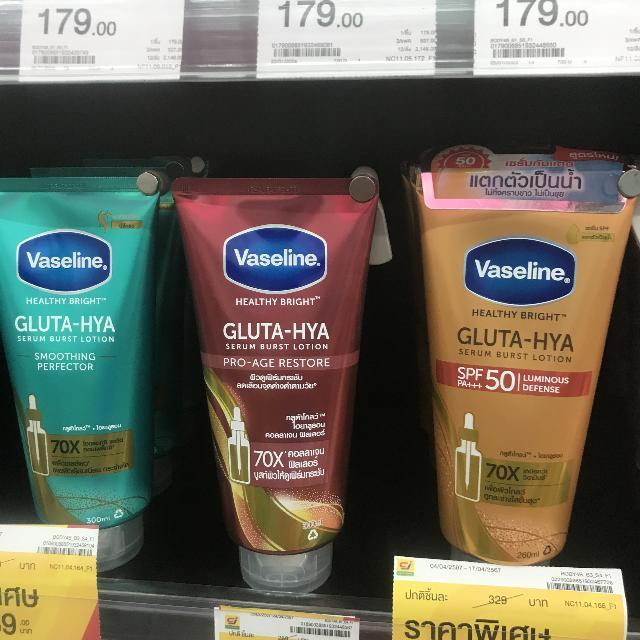Squeeze Tube: (420, 146, 638, 582), (172, 172, 384, 598), (0, 176, 165, 590)
